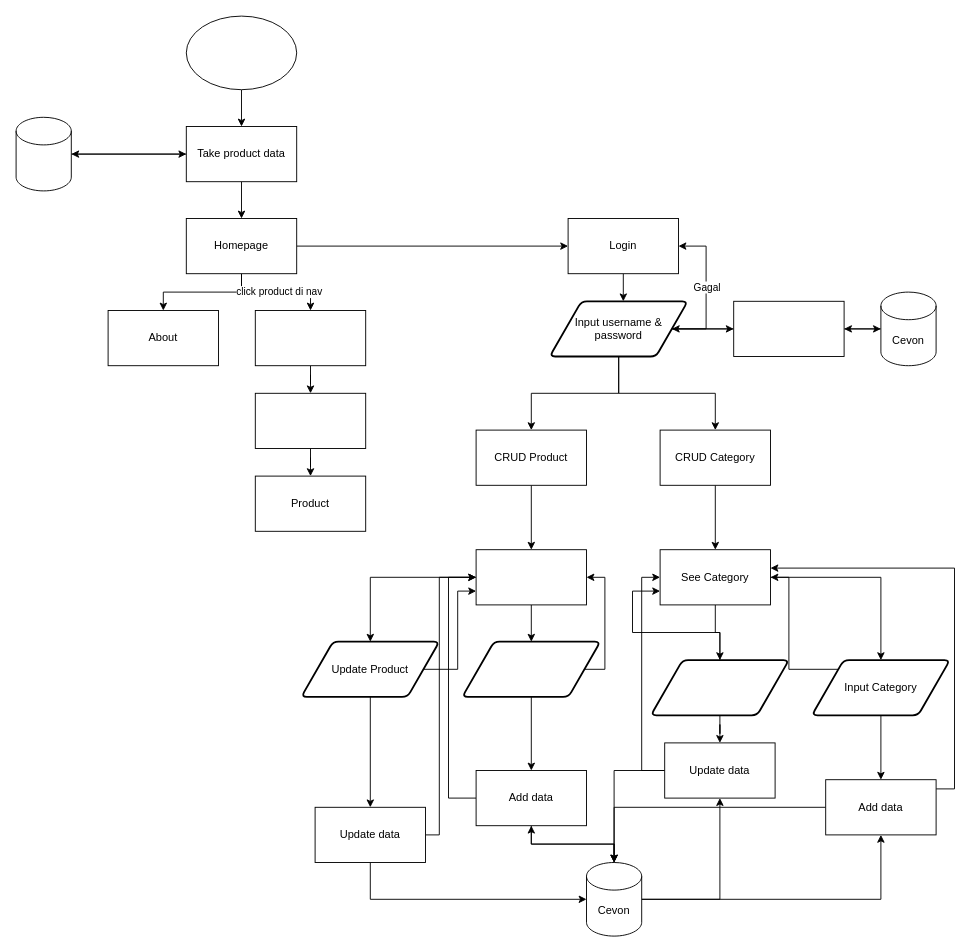
Image size: 978x952. Some labels were removed from this diagram. Each missing label, with the centre of its shape:
Catalogs: (310,338)
Crevon: (43,153)
Input product: (531,668)
Mulai: (241,52)
Products on Catalog: (310,420)
See product: (530,577)
Take user authenticate data: (788,328)
Update Category: (719,687)
